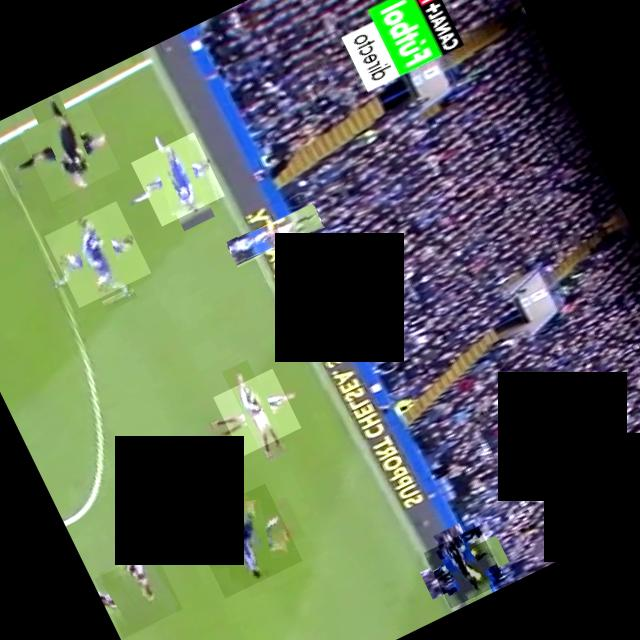referee: (18, 100, 120, 202), (422, 526, 504, 608)
soccer-player: (186, 483, 302, 598), (43, 201, 150, 308), (130, 132, 223, 226), (93, 550, 181, 638), (212, 368, 300, 456), (225, 202, 323, 267)
